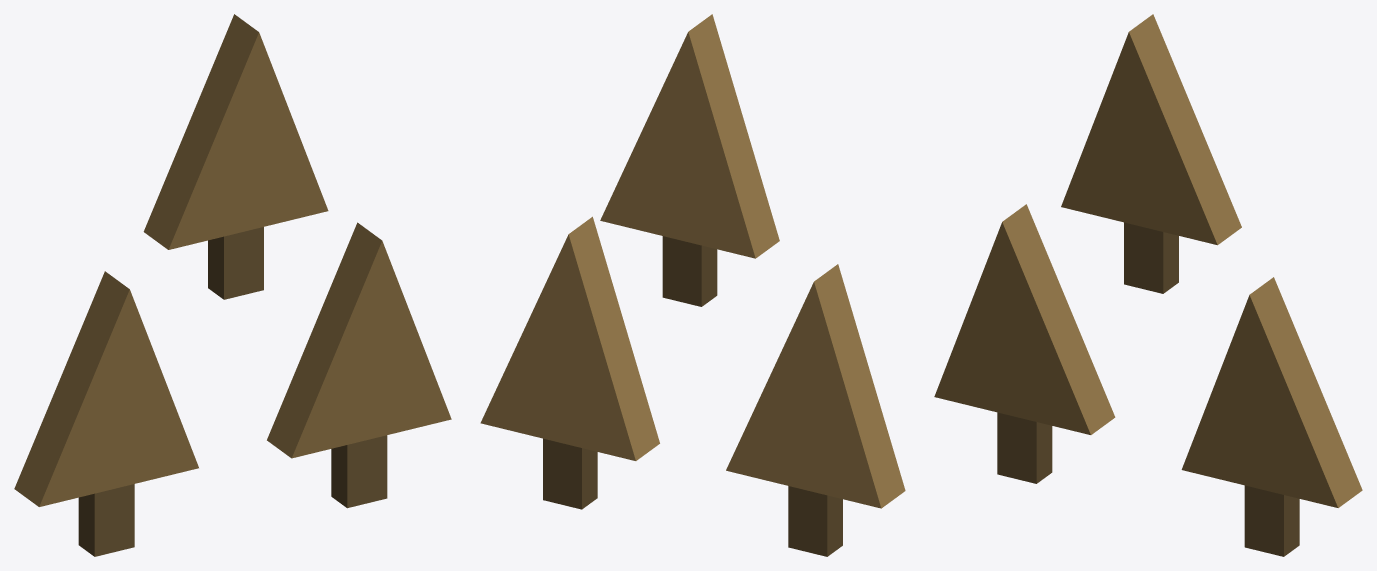
File: bronzeArrowheads.glb
3 renders of one model, left to right at view 1: azimuth 30°, elevation 25°; view 2: azimuth 150°, elevation 25°; view 3: azimuth 330°, elevation 25°, orthographic. The views are drawn at different scales.
Visible parts, largest first — view 1: bronzeArrowheads; view 2: bronzeArrowheads; view 3: bronzeArrowheads.
Part boxes in pixels (x1,y1,x2,y2): bronzeArrowheads: (14, 14, 451, 556); bronzeArrowheads: (480, 14, 905, 556); bronzeArrowheads: (934, 14, 1362, 556).
Bounding box in the file's own units: 0.8428 × 1 × 0.1258.
